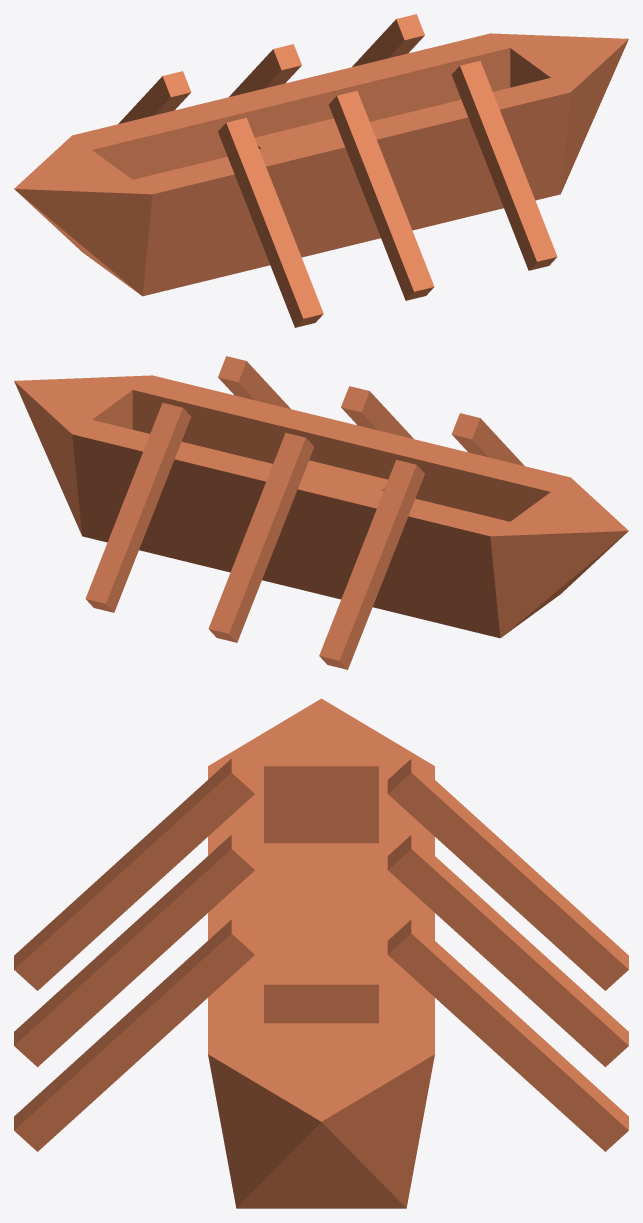
The model's file is Unit Boat.glb.
3 views of the same model, one above another, from view 1: azimuth 30°, elevation 25°; view 2: azimuth 150°, elevation 25°; view 3: azimuth 270°, elevation 25° (orthographic). The views are drawn at different scales.
Visible parts, largest first — view 1: unit_boat, Group.002, Group.004, Group.003, Group, Group.001, Group.005; view 2: unit_boat, Group.005, Group.001, Group, Group.003, Group.004, Group.002; view 3: unit_boat, Group, Group.002, Group.003, Group.005, Group.001, Group.004.
Part boxes in pixels (<box>): unit_boat: <box>14,33,628,296</box>; Group.002: <box>329,90,434,300</box>; Group.004: <box>451,60,557,270</box>; Group.003: <box>218,118,323,327</box>; Group: <box>118,71,191,123</box>; Group.001: <box>352,14,424,66</box>; Group.005: <box>229,44,301,96</box>; unit_boat: <box>14,375,628,638</box>; Group.005: <box>208,432,313,642</box>; Group.001: <box>85,402,191,612</box>; Group: <box>319,460,424,669</box>; Group.003: <box>451,413,524,465</box>; Group.004: <box>218,356,290,408</box>; Group.002: <box>341,386,413,438</box>; unit_boat: <box>208,698,434,1208</box>; Group: <box>387,758,628,990</box>; Group.002: <box>14,835,255,1067</box>; Group.003: <box>14,758,255,990</box>; Group.005: <box>387,835,628,1067</box>; Group.001: <box>387,919,628,1151</box>; Group.004: <box>14,919,255,1151</box>.
Bounding box in the file's own units: 0.645 × 0.1553 × 0.3959.
